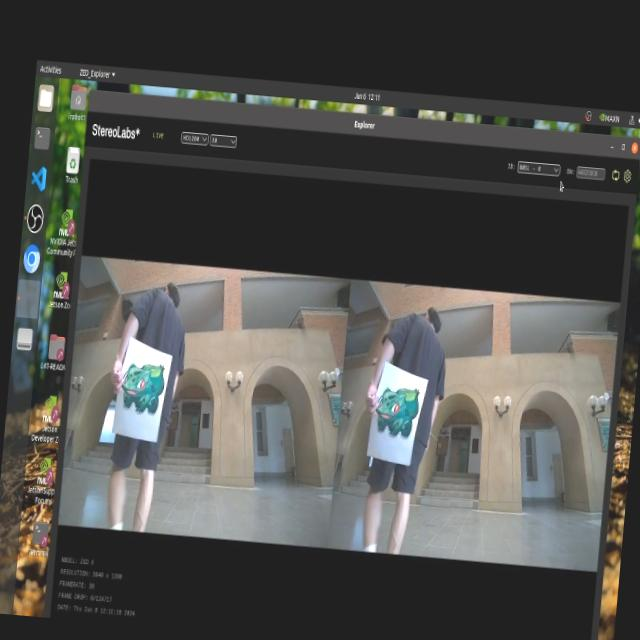green: (368, 373, 423, 441), (118, 356, 170, 419)
